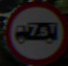Heavy Vehicles: (4, 7, 62, 55)
